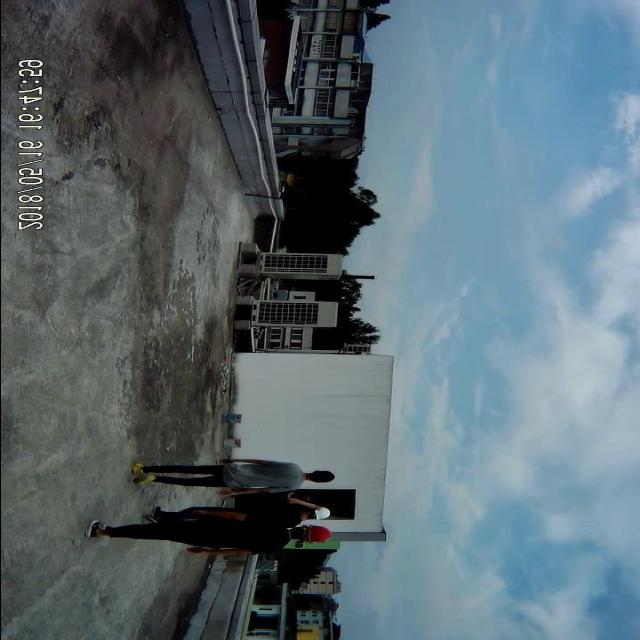helmet: (308, 524, 339, 544), (308, 503, 336, 521)
